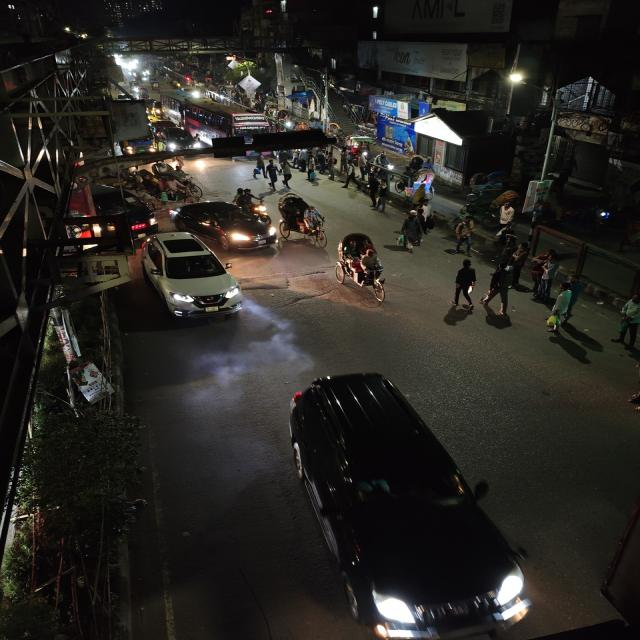bus: (182, 103, 270, 143)
car: (282, 366, 540, 640), (136, 233, 248, 325), (173, 200, 276, 250), (157, 127, 200, 152)
pedestrian: (544, 281, 588, 337), (484, 264, 520, 313), (614, 291, 640, 351), (448, 258, 479, 308), (397, 211, 427, 251), (451, 216, 480, 255), (527, 258, 553, 298), (366, 173, 392, 213), (342, 158, 364, 190), (262, 159, 282, 191), (510, 240, 530, 263), (278, 163, 295, 190), (304, 162, 322, 186)
rickshaw: (329, 230, 391, 302), (278, 192, 332, 248), (134, 170, 202, 205)
